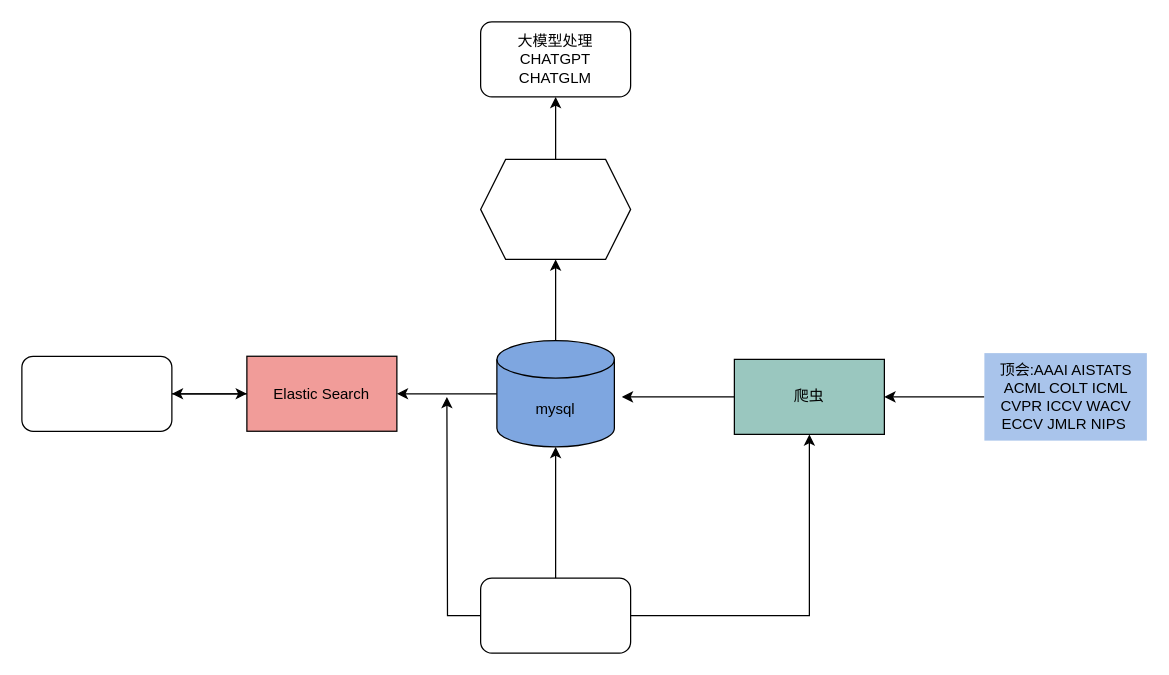
The diagram is 1169 pixels wide and 675 high, and some of its shapes have lost their labels. The centre of each missing label's shape, as x and y in pixels:
"rabbimq" goes at (x=555, y=208).
"search recommend" goes at (x=96, y=393).
"xxl-job" goes at (x=555, y=615).
